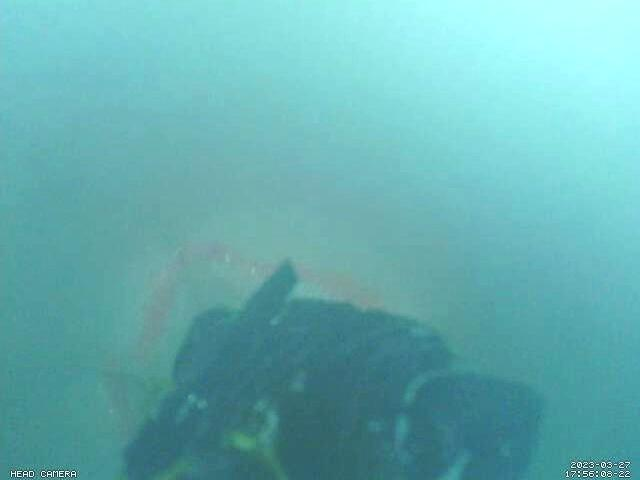head: (105, 242, 375, 435)
